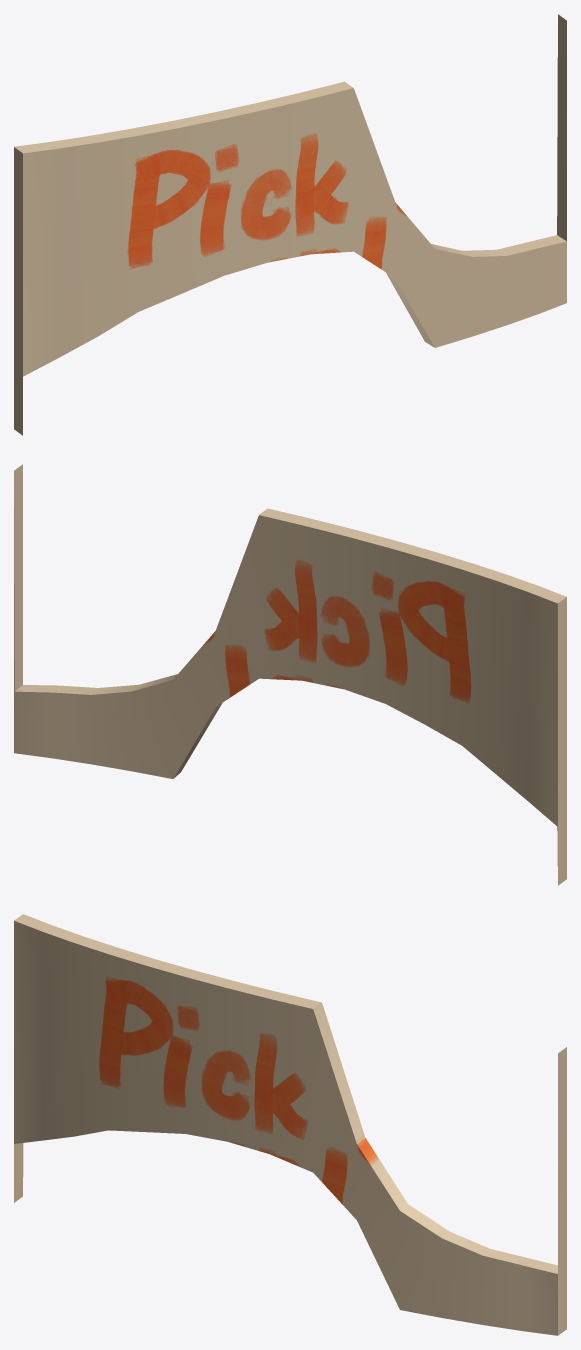
Rendered from toy_monster_board8.fbx.
3 views of the same model, one above another, from view 1: azimuth 30°, elevation 25°; view 2: azimuth 150°, elevation 25°; view 3: azimuth 330°, elevation 25° (orthographic).
Visible parts, largest first — view 1: board; view 2: board; view 3: board.
Part boxes in pixels (<box>): board: <box>14,14,566,435</box>; board: <box>14,464,566,885</box>; board: <box>14,914,566,1335</box>.
Bounding box in the file's own units: 157 × 77.71 × 12.54.
Materials: 2 (1 with a texture image).
